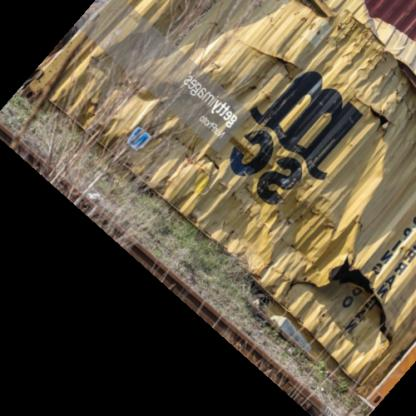Damage: (61, 34, 223, 181), (266, 184, 401, 352), (264, 0, 415, 136)
